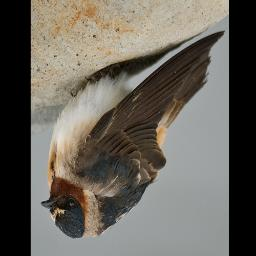Swallow: (40, 29, 226, 240)
